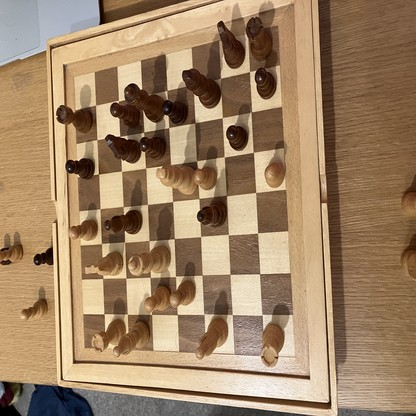bishop_black: (105, 210, 143, 235), (197, 200, 226, 227)
bishop_white: (195, 320, 228, 359), (114, 322, 151, 356)
king_black: (182, 70, 221, 107)
king_white: (156, 165, 197, 194)
knight_black: (218, 22, 246, 68), (104, 134, 141, 163)
knight_white: (85, 251, 123, 276)
pawn_black: (110, 102, 139, 127), (255, 68, 277, 98), (65, 159, 95, 180), (162, 102, 187, 125), (140, 137, 166, 157), (227, 127, 249, 150), (34, 249, 53, 266)
pawn_white: (170, 280, 196, 309), (69, 219, 98, 242), (144, 287, 170, 310), (20, 299, 47, 319), (194, 167, 217, 190), (266, 162, 285, 189)
queen_black: (124, 84, 164, 123)
queen_white: (128, 247, 170, 275)
rock_black: (245, 17, 272, 60), (56, 105, 92, 134)
rock_white: (92, 318, 125, 352), (261, 324, 284, 367)
